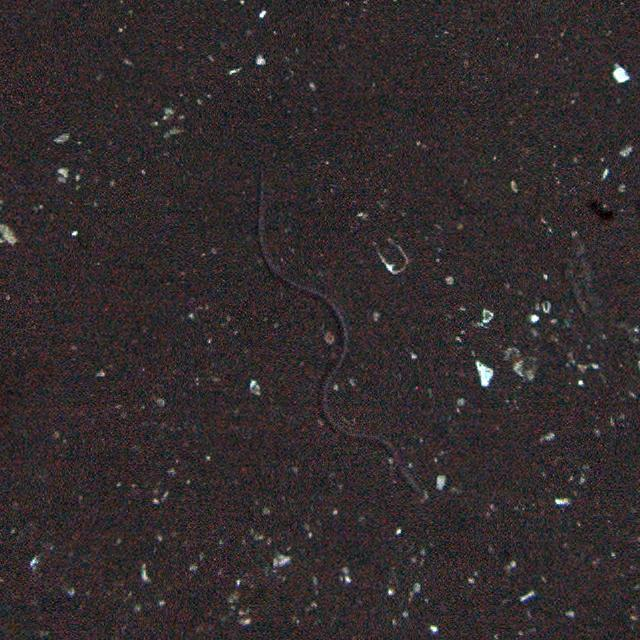eel: (254, 175, 426, 498)
